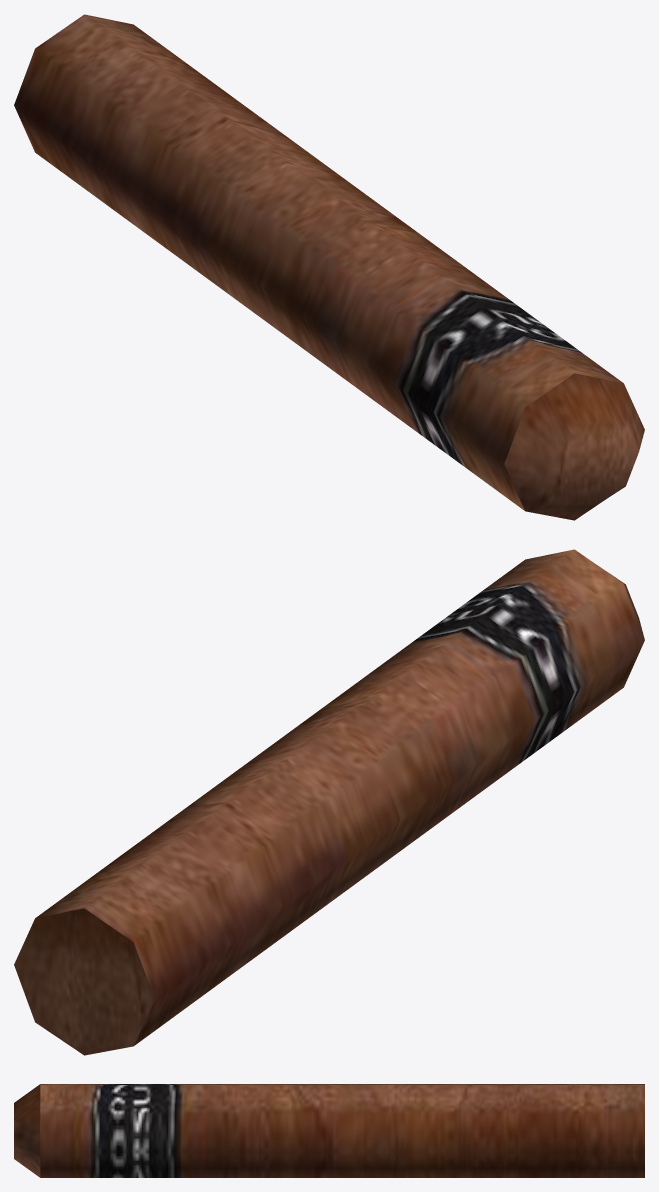
File: cigar.obj
3 renders of one model, top to bottom at view 1: azimuth 30°, elevation 25°; view 2: azimuth 150°, elevation 25°; view 3: azimuth 270°, elevation 25°, orthographic. The views are drawn at different scales.
Parts seen in each view (by area): view 1: br_cigar1; view 2: br_cigar1; view 3: br_cigar1.
Part boxes in pixels (x1,y1,x2,y2): br_cigar1: (14, 14, 644, 520); br_cigar1: (14, 549, 644, 1055); br_cigar1: (14, 1084, 644, 1177).
Size of the model in its own units: 2.5 by 2.5 by 15.73.
Materials: 1 (1 with a texture image).
